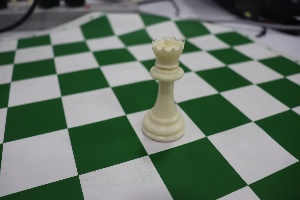white_queen: (138, 27, 192, 148)
